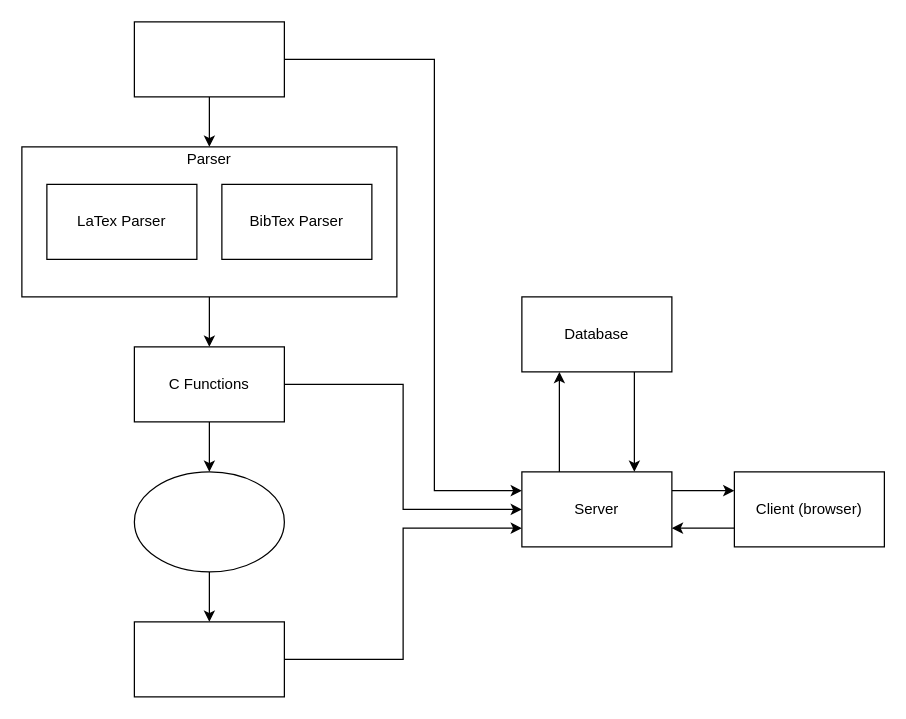
The diagram is 906 pixels wide and 719 high, and some of its shapes have lost their labels. The box of each missing label's shape, as (x1, y1, x2, y2) in pixels:
Dependency Graphs & Documentation: (133, 621, 284, 697)
Doxygen: (133, 471, 284, 572)
Paper (.tex/.bib): (133, 21, 284, 97)
